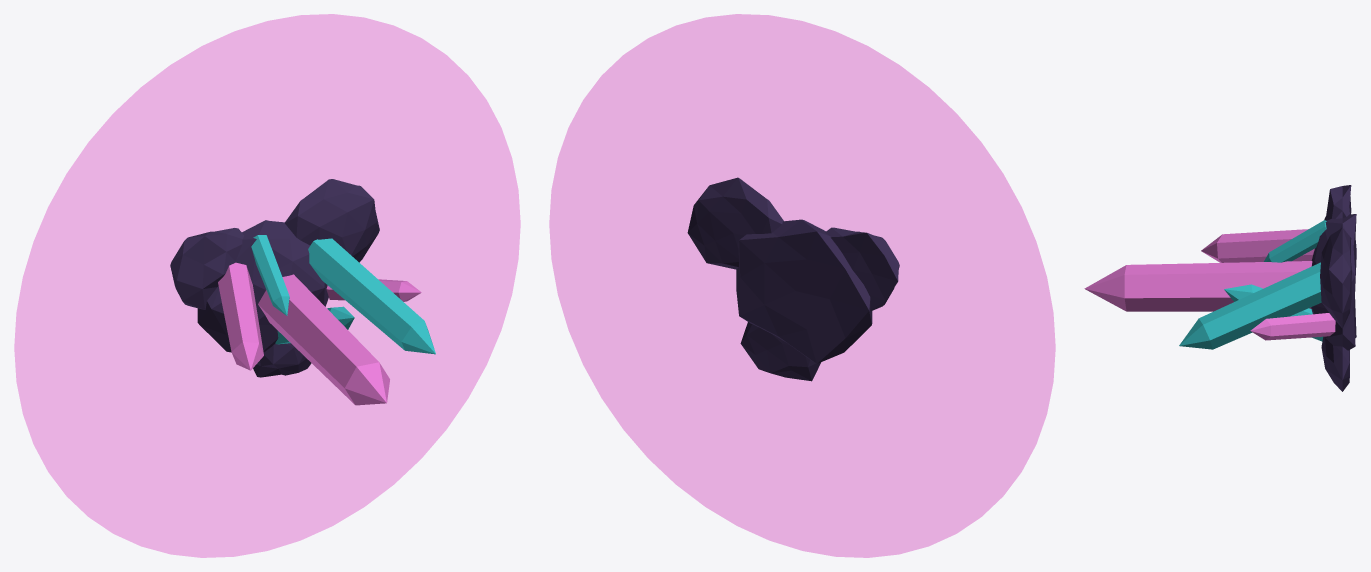
Rendered from cristaux.glb.
3 renders of one model, left to right at view 1: azimuth 30°, elevation 25°; view 2: azimuth 150°, elevation 25°; view 3: azimuth 270°, elevation 25°, orthographic. The views are drawn at different scales.
Visible parts, largest first — view 1: lueur, cristal0, cristal1, socle0, socle1, socle2, cristal2, cristal5, socle3, cristal4; view 2: lueur, socle0, socle1, socle2, socle3; view 3: cristal0, cristal1, socle1, cristal2, socle0, cristal4, cristal5, socle3, socle2, cristal3.
Part boxes in pixels (x1,y1,x2,y2): lueur: [14, 14, 520, 557]; cristal0: [258, 274, 389, 405]; cristal1: [308, 238, 435, 354]; socle0: [197, 220, 328, 352]; socle1: [285, 179, 379, 262]; socle2: [170, 228, 244, 309]; cristal2: [218, 262, 263, 370]; cristal5: [251, 235, 289, 315]; socle3: [253, 343, 311, 377]; cristal4: [326, 279, 421, 301]; lueur: [549, 14, 1055, 557]; socle0: [736, 219, 872, 363]; socle1: [687, 177, 783, 269]; socle2: [825, 227, 899, 311]; socle3: [740, 322, 820, 381]; cristal0: [1084, 261, 1312, 311]; cristal1: [1179, 262, 1321, 349]; socle1: [1320, 227, 1351, 328]; cristal2: [1201, 229, 1314, 262]; socle0: [1311, 214, 1356, 350]; cristal4: [1250, 313, 1335, 340]; cristal5: [1264, 220, 1326, 262]; socle3: [1321, 336, 1349, 391]; socle2: [1324, 185, 1351, 220]; cristal3: [1224, 284, 1323, 341].
Bounding box in the file's own units: 6.4 × 6.4 × 3.2.
